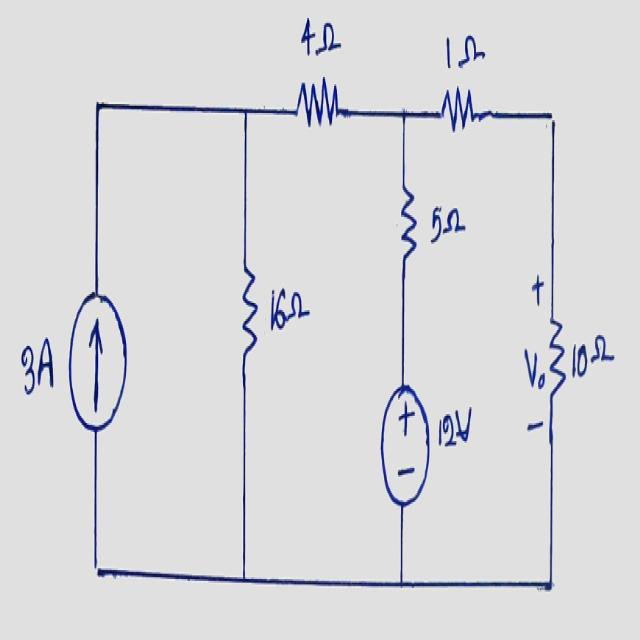current_source: (65, 286, 130, 438)
resistor: (434, 74, 481, 156), (294, 73, 340, 154), (240, 254, 262, 378), (548, 312, 572, 407), (397, 169, 419, 272)
voltage_source: (379, 375, 432, 513)
